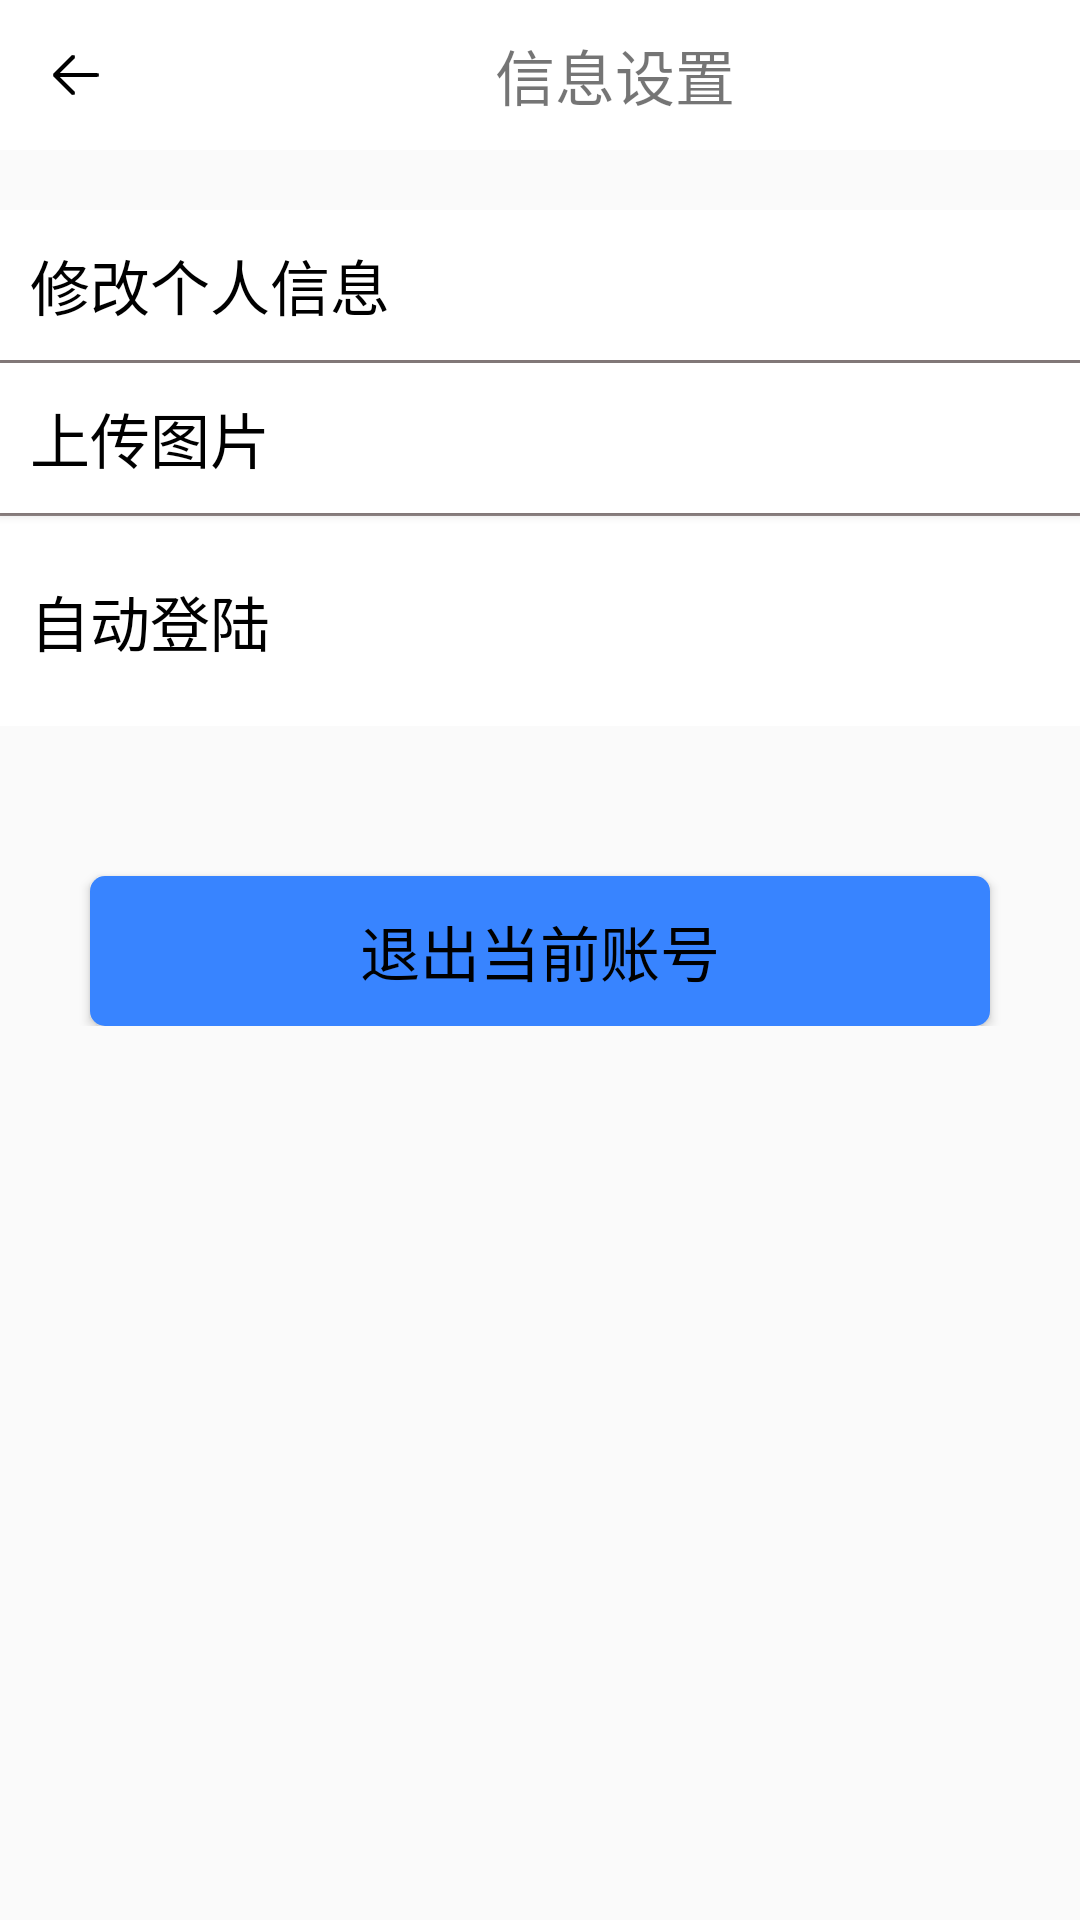

Screen size 1080*1920. Icon name, then its box in pixels as (x1, y1, x2, y2):
home back: (53, 55, 99, 95)
